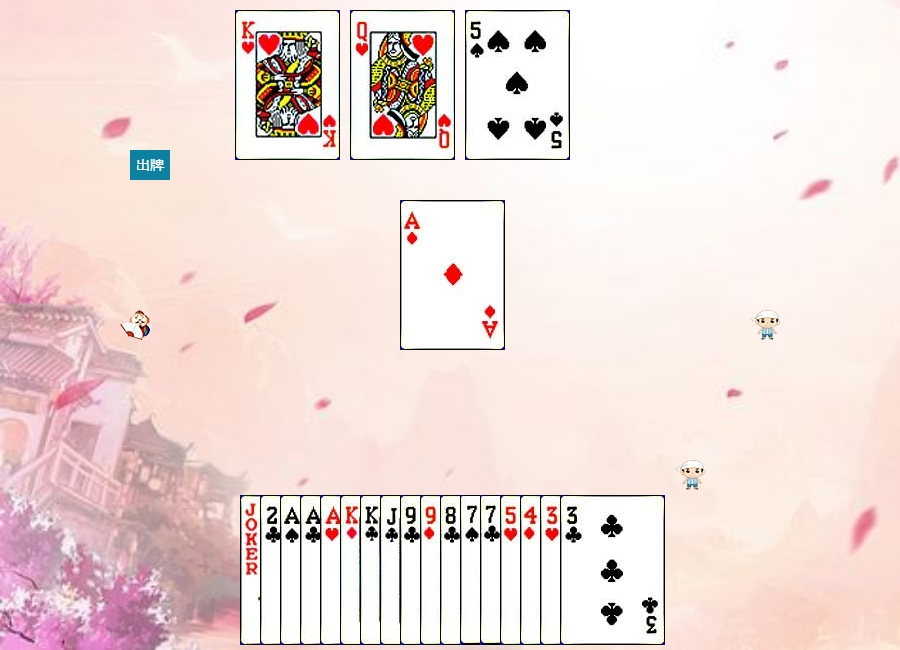11~2: (380, 495, 485, 645)
12~3: (350, 10, 455, 160)
13~1: (340, 495, 445, 645)
13~2: (360, 495, 465, 645)
13~3: (235, 10, 340, 160)
14~1: (400, 200, 505, 350)
14~2: (300, 495, 405, 645)
14~3: (320, 495, 425, 645)
14~4: (280, 495, 385, 645)
15~2: (260, 495, 365, 645)
18~4: (240, 495, 345, 645)
3~2: (560, 495, 665, 645)
3~3: (540, 495, 645, 645)
4~1: (520, 495, 625, 645)
5~3: (500, 495, 605, 645)
5~4: (465, 10, 570, 160)
7~2: (480, 495, 585, 645)
7~4: (460, 495, 565, 645)
8~2: (440, 495, 545, 645)
9~1: (420, 495, 525, 645)
9~2: (400, 495, 505, 645)
